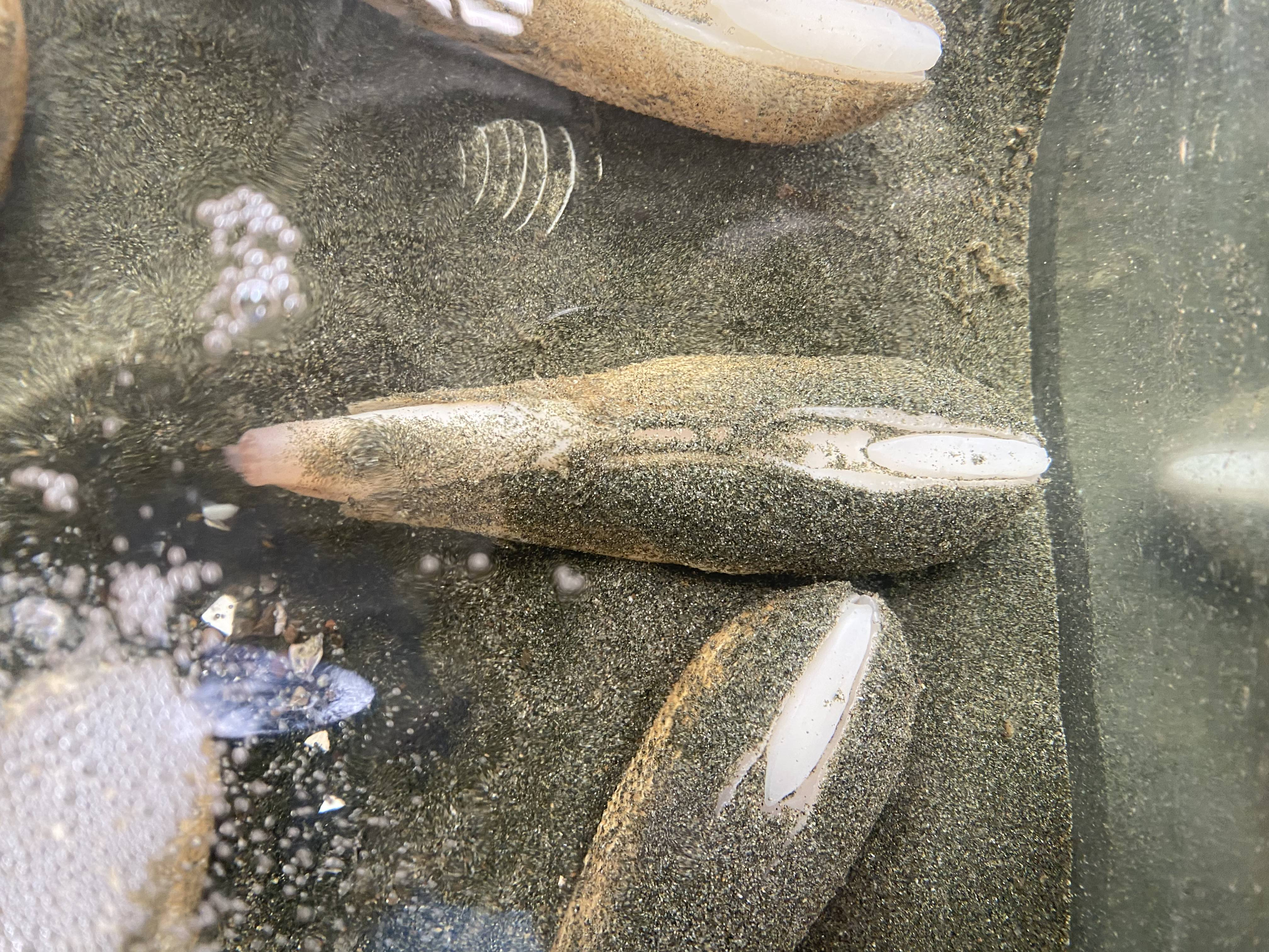Healthy: (231, 355, 1048, 575)
